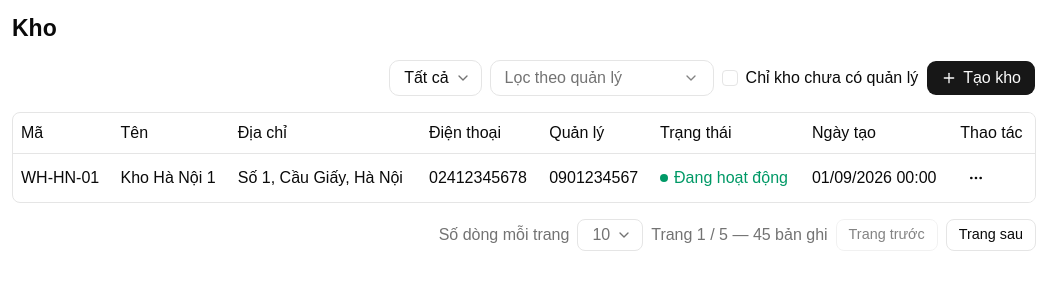
WarehousesPage — trang và bộ lọc trên URL › bấm Trang sau ghi page lên URL
Expected: the link "Kho Hà Nội 1" is shown, [120, 166, 216, 190]
Click the button "Trang sau".
click(991, 234)  # box [946, 218, 1036, 250]
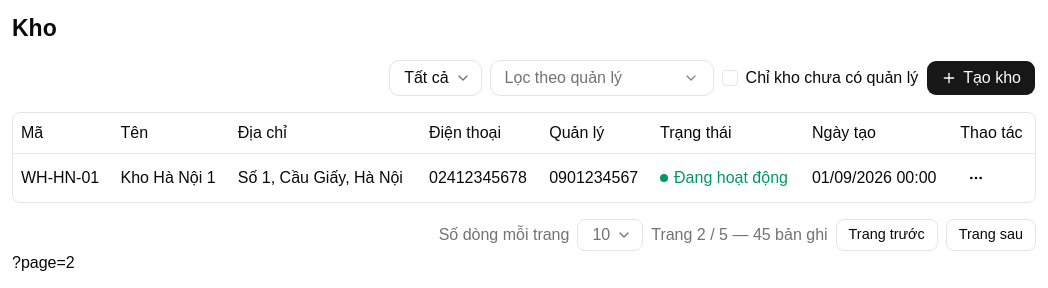
Now the text with test id "location" shows "page=2", box [12, 254, 75, 270]
